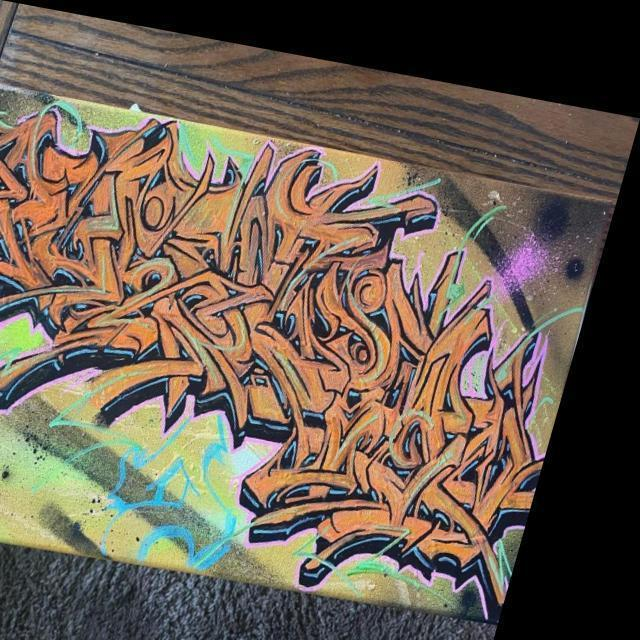nonspitting: (0, 109, 544, 612)
